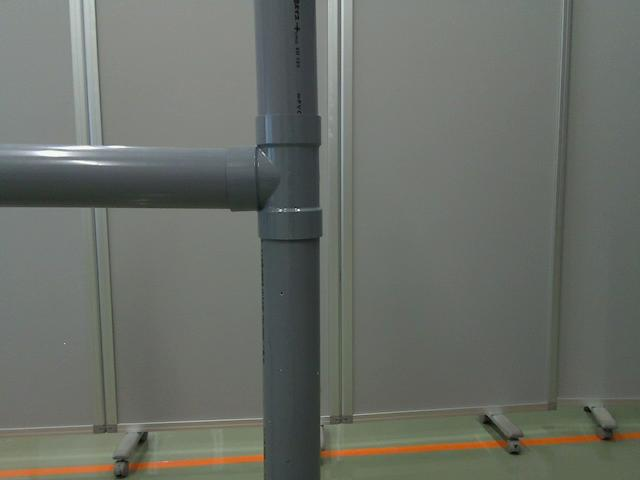junction: (226, 118, 328, 236)
